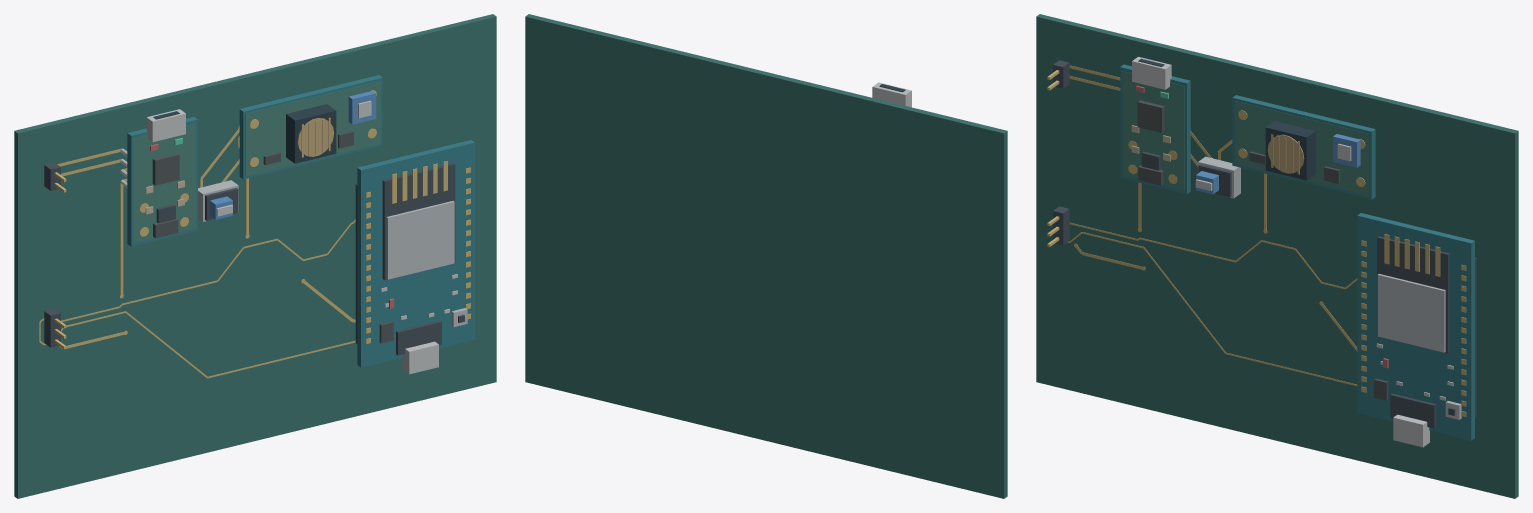
The model's file is KAWING_PalaySense_No_Extra_RC.glb.
The picture shows the model from 3 angles, left to right: view 1: azimuth 30°, elevation 25°; view 2: azimuth 150°, elevation 25°; view 3: azimuth 330°, elevation 25°; orthographic projection.
Visible parts, largest first — view 1: c0, c1, c123, c92, c65, c64, c122, c124, c91, c72, c93, c73 (+5 smaller); view 2: c0, c93; view 3: c0, c1, c123, c92, c65, c64, c122, c124, c91, c72, c93, c73 (+5 smaller).
Boxes of the visible parts, x1,y1,x2,y2 form: c0: (14, 14, 496, 498); c1: (357, 140, 474, 367); c123: (245, 81, 380, 176); c92: (133, 123, 195, 242); c65: (386, 201, 454, 279); c64: (382, 163, 455, 280); c122: (239, 75, 382, 179); c124: (286, 104, 336, 163); c91: (127, 117, 197, 246); c72: (396, 320, 441, 355); c93: (146, 109, 185, 141); c73: (402, 341, 438, 374); c0: (525, 14, 1007, 498); c93: (872, 82, 911, 107); c0: (1036, 14, 1518, 498); c1: (1357, 213, 1474, 440); c123: (1234, 101, 1369, 196); c92: (1122, 71, 1184, 190); c65: (1377, 274, 1445, 352); c64: (1377, 236, 1449, 353); c122: (1232, 95, 1375, 199); c124: (1265, 121, 1315, 180); c91: (1120, 64, 1190, 194); c72: (1390, 393, 1436, 428); c93: (1132, 56, 1171, 89); c73: (1393, 414, 1429, 447).
Bounding box in the file's own units: 122 × 88.9 × 12.51.
